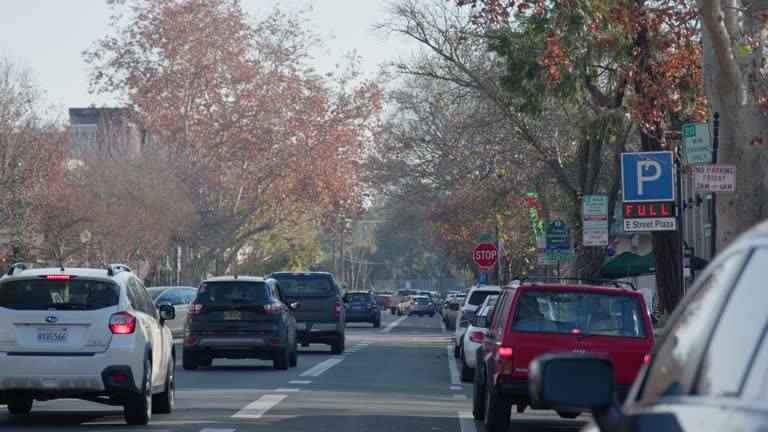StopSign: (473, 242, 500, 266)
